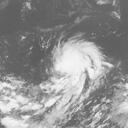cyclone: (51, 35, 105, 84)
